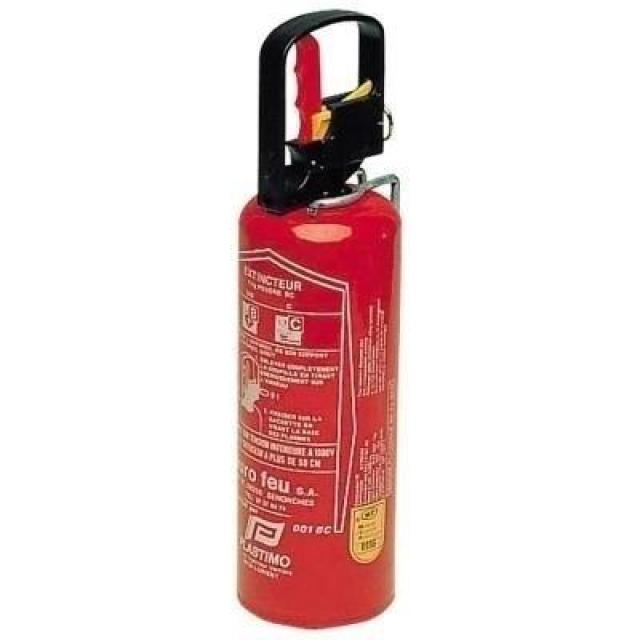fire_extinguisher: (225, 5, 407, 635)
